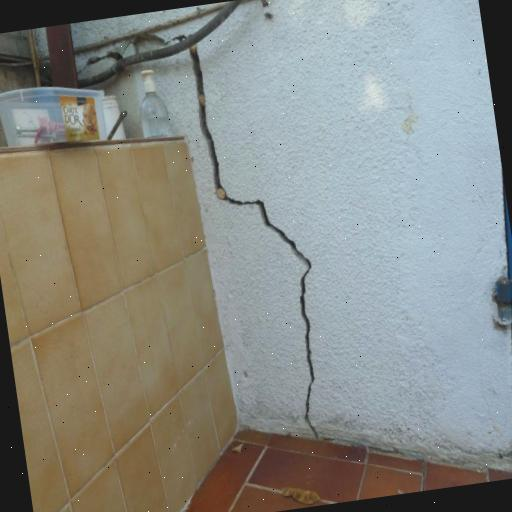spalling: (183, 54, 322, 433)
